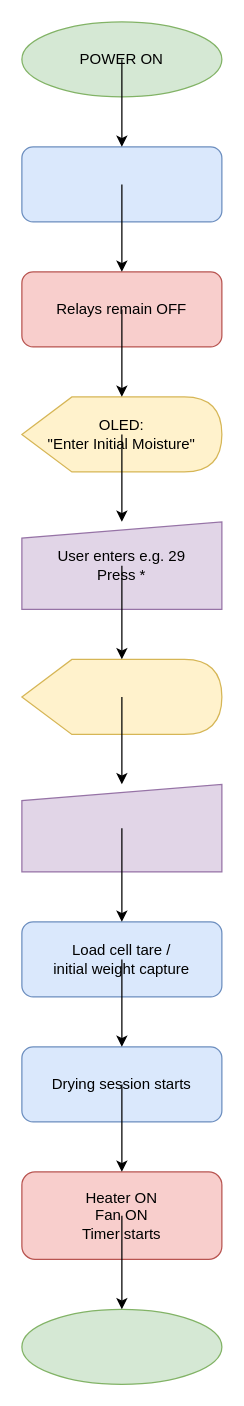
Image size: 244x1406. Some labels were removed from this diagram. Each missing label, with the centre of its shape:
HOME SCREEN: pixel 121 1346
OLED: "Enter Target Moisture": pixel 121 696
System initializes: pixel 121 184
User enters e.g. 14 Press *: pixel 121 827
